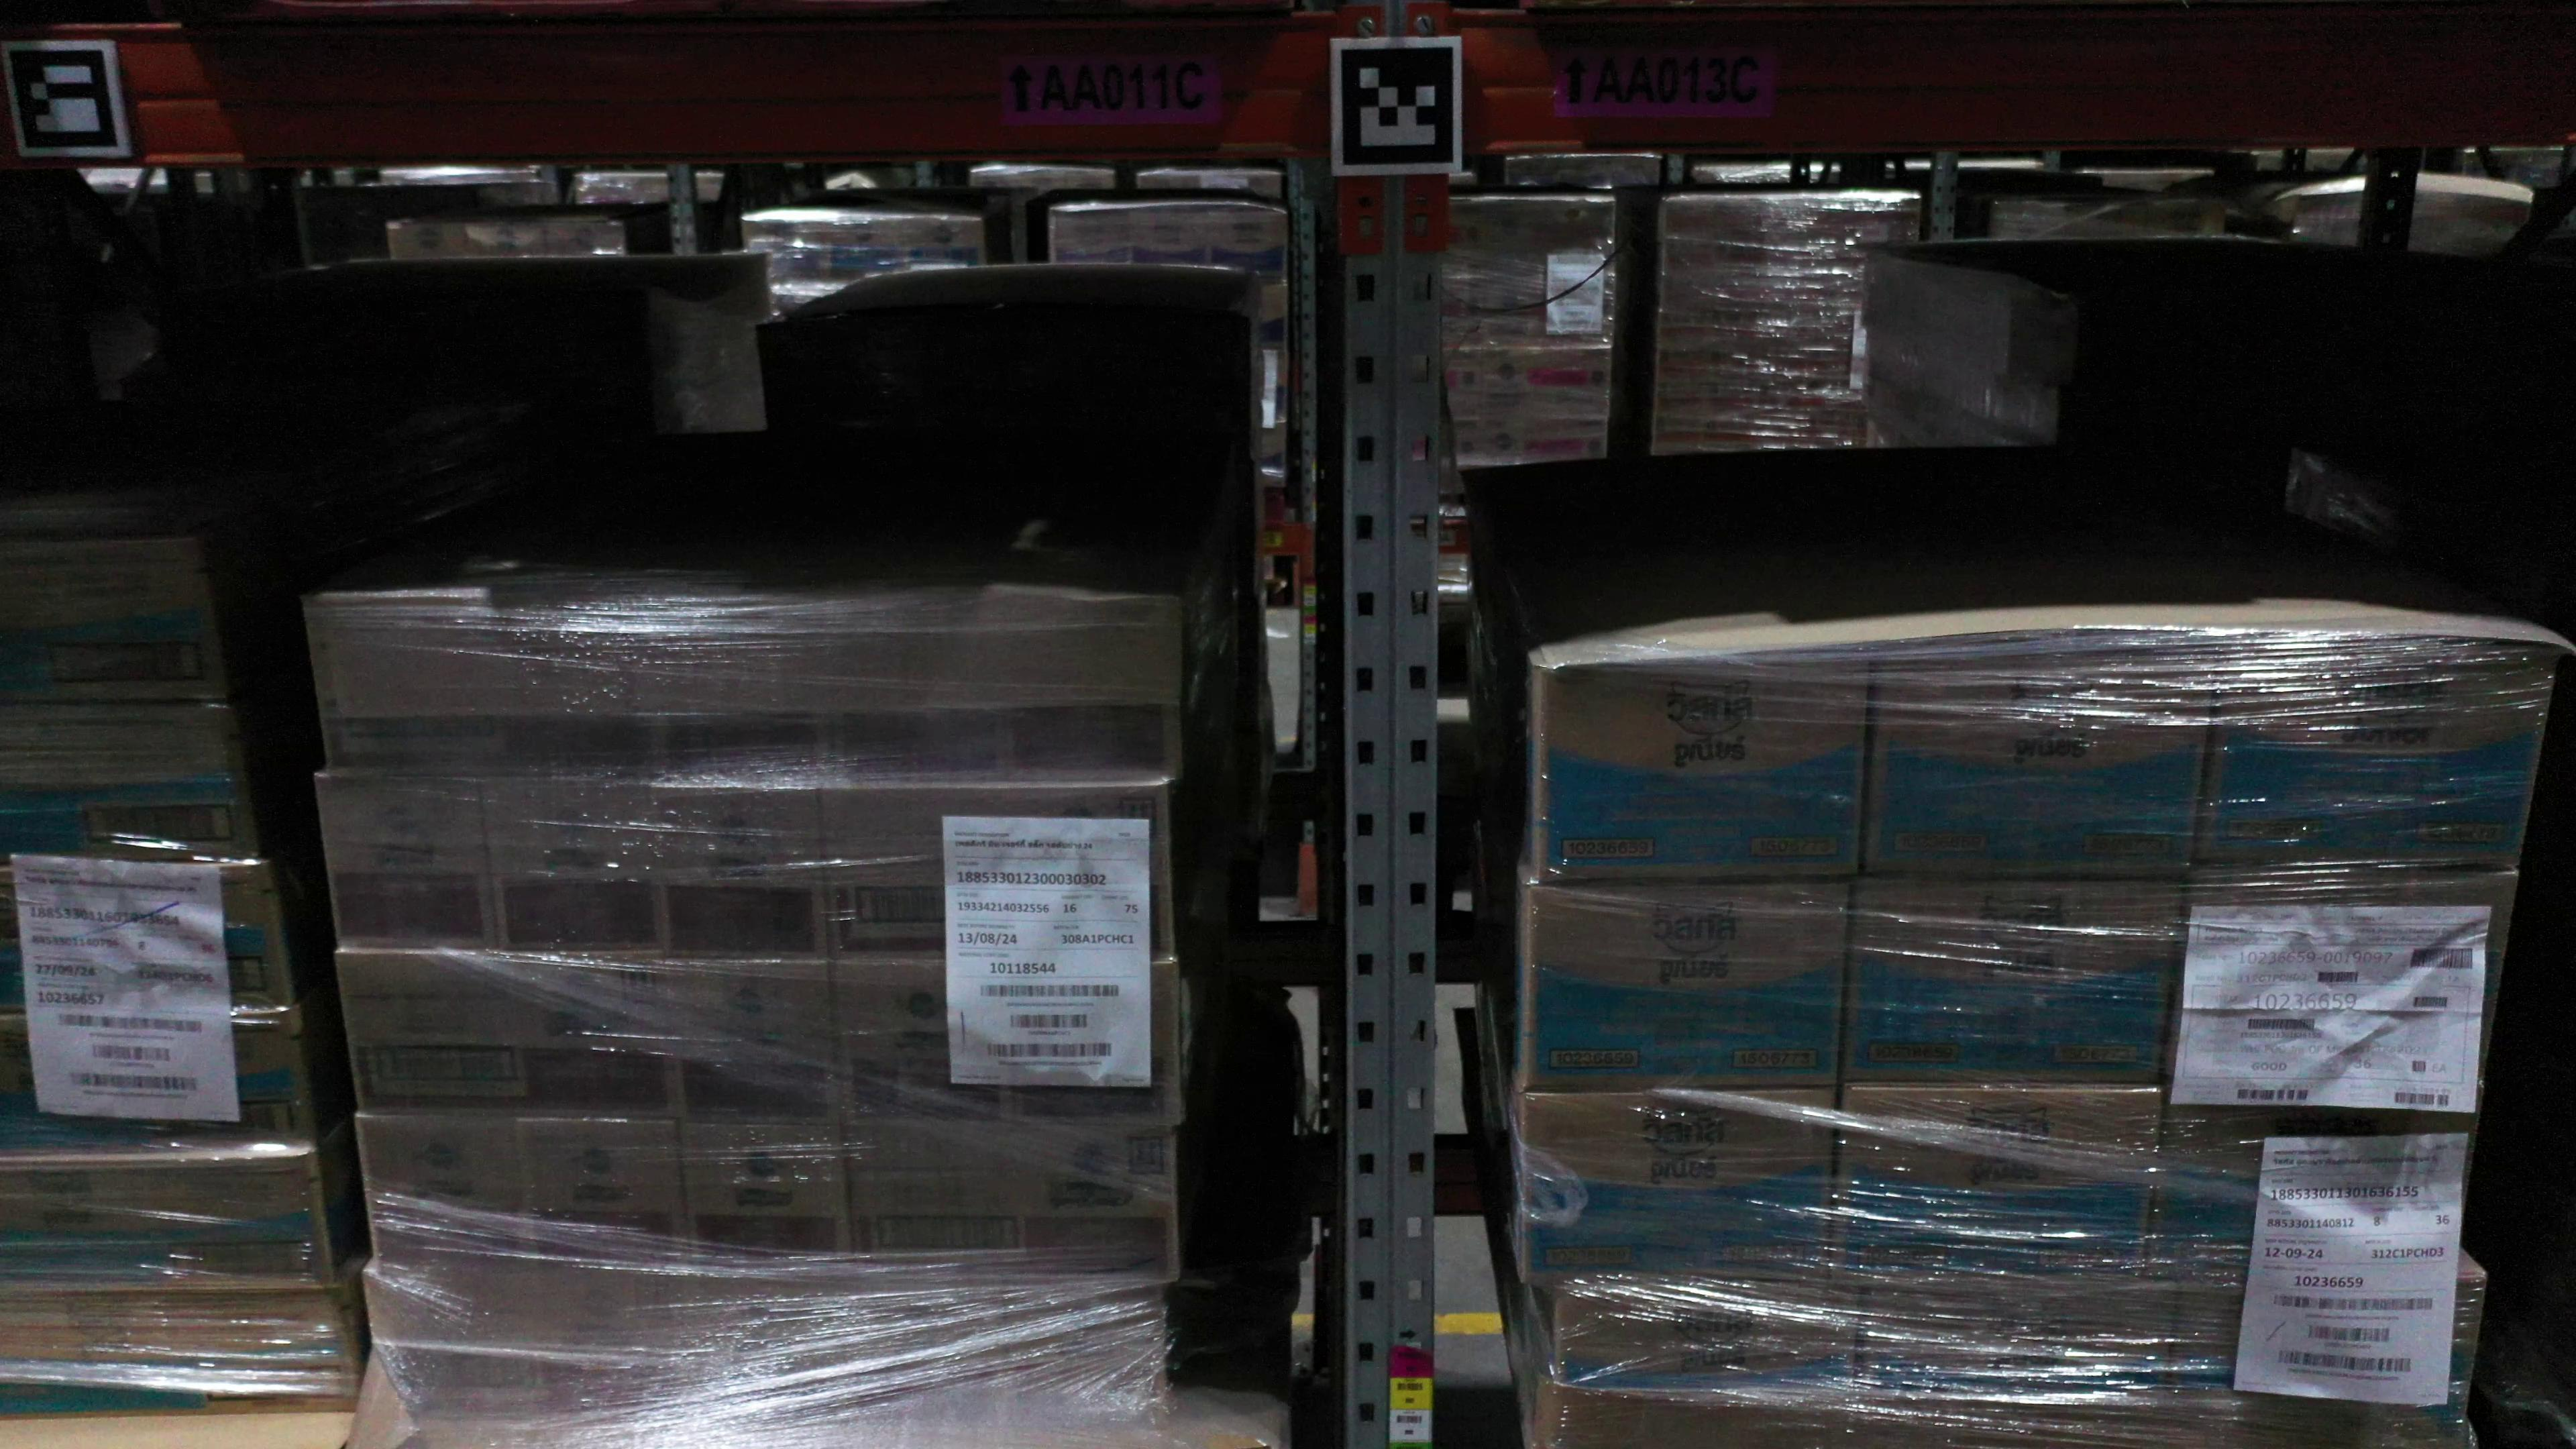-: (1861, 639, 2222, 876), (2194, 639, 2551, 876), (1532, 651, 1867, 883), (2169, 870, 2518, 1086), (1842, 876, 2183, 1086), (1518, 879, 1849, 1093), (2144, 1086, 2477, 1286), (1828, 1090, 2162, 1286), (1518, 1086, 1833, 1290), (821, 786, 1175, 966), (308, 603, 653, 787), (338, 952, 679, 1118), (2173, 1277, 2484, 1449), (842, 1125, 1178, 1283), (0, 1007, 315, 1169), (0, 1283, 357, 1421), (366, 1277, 706, 1422), (1854, 1283, 2185, 1417), (2, 1152, 331, 1286), (0, 862, 287, 1016), (0, 702, 257, 867), (1553, 1286, 1861, 1412), (0, 540, 223, 704), (317, 771, 501, 955), (483, 777, 667, 957), (649, 778, 828, 961), (837, 959, 1016, 1125), (357, 1116, 540, 1279), (667, 961, 846, 1122), (520, 1116, 694, 1272), (681, 1125, 855, 1281), (1019, 959, 1177, 1127), (704, 1272, 870, 1421), (862, 1279, 1023, 1421), (1016, 1281, 1164, 1414), (1003, 706, 1180, 786), (828, 711, 1003, 787), (649, 715, 830, 787)
